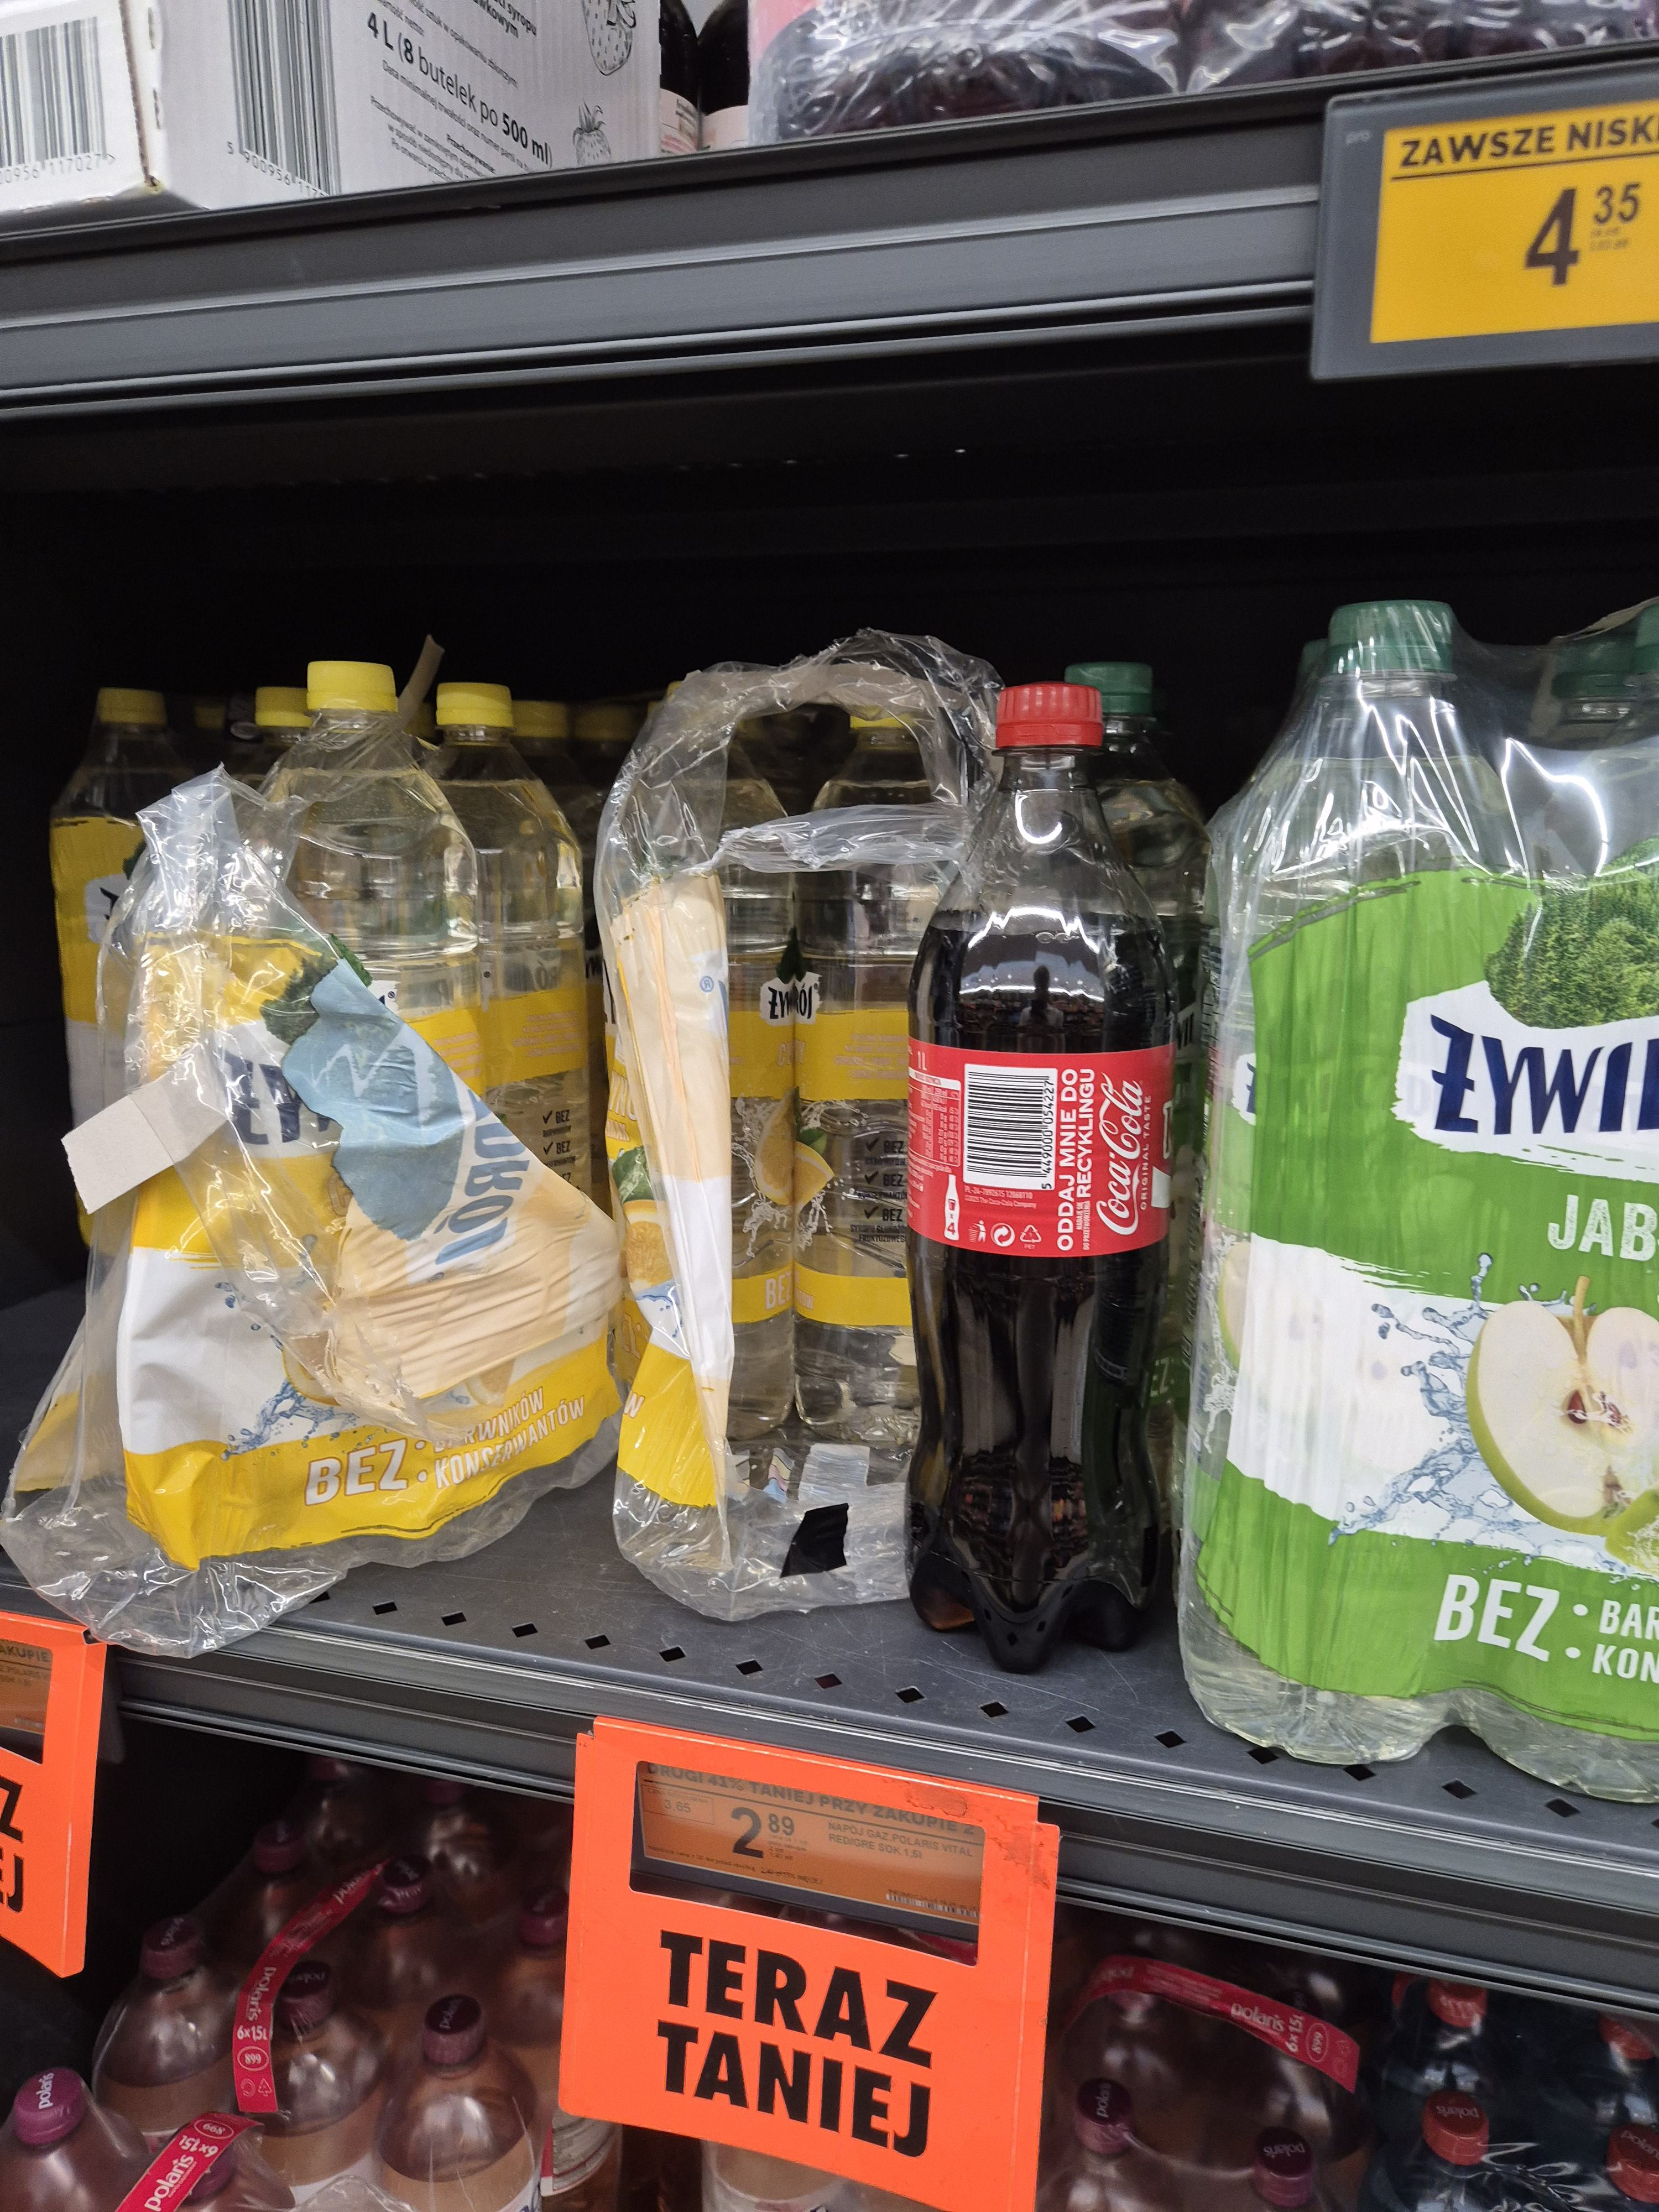Coca Cola: (915, 685, 1183, 1663)
